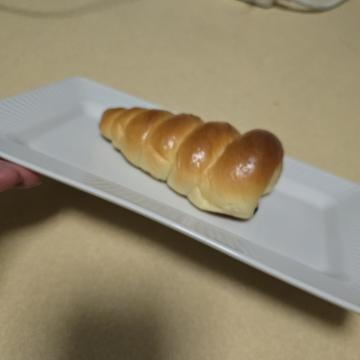cream horn: (91, 67, 234, 276)
